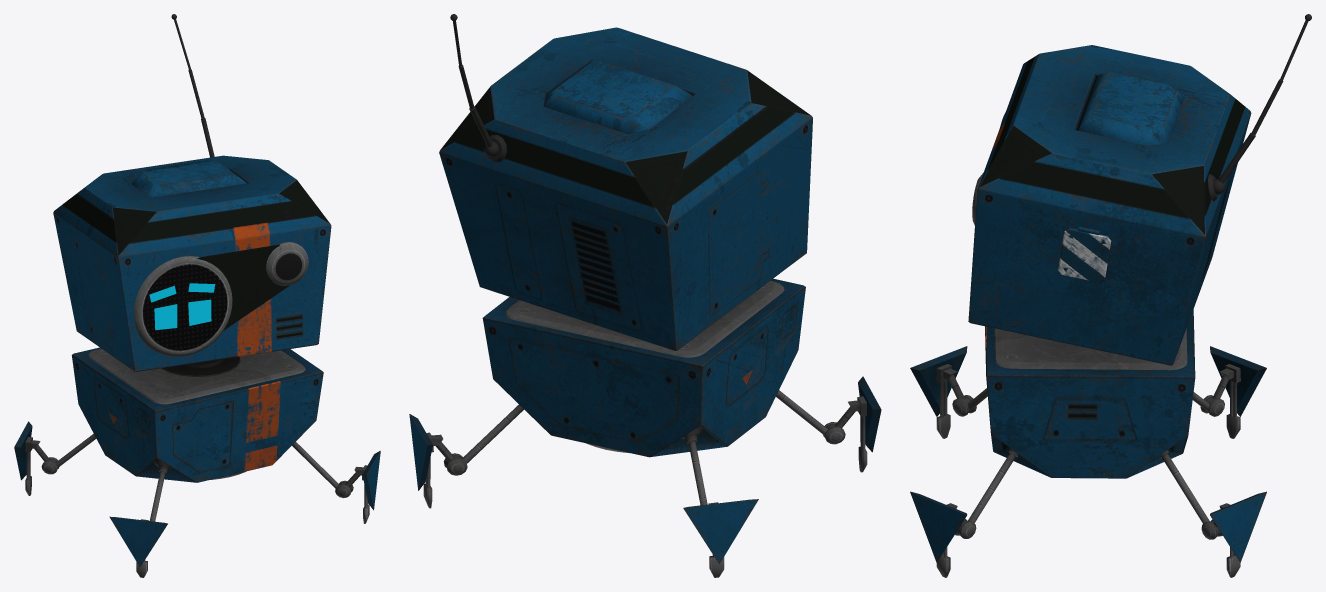
Rendered from Robot.fbx.
3 views of the same model, side by side, from view 1: azimuth 30°, elevation 25°; view 2: azimuth 150°, elevation 25°; view 3: azimuth 270°, elevation 25° (orthographic). The views are drawn at different scales.
Visible parts, largest first — view 1: node_id61, node_id59; view 2: node_id61; view 3: node_id61.
Part boxes in pixels (x1,y1,x2,y2): node_id61: (14, 14, 380, 577); node_id59: (149, 283, 215, 330); node_id61: (409, 14, 881, 577); node_id61: (910, 14, 1311, 577).
Bounding box in the file's own units: 0.349 × 0.512 × 0.3503.
Materials: 2 (2 with a texture image).
